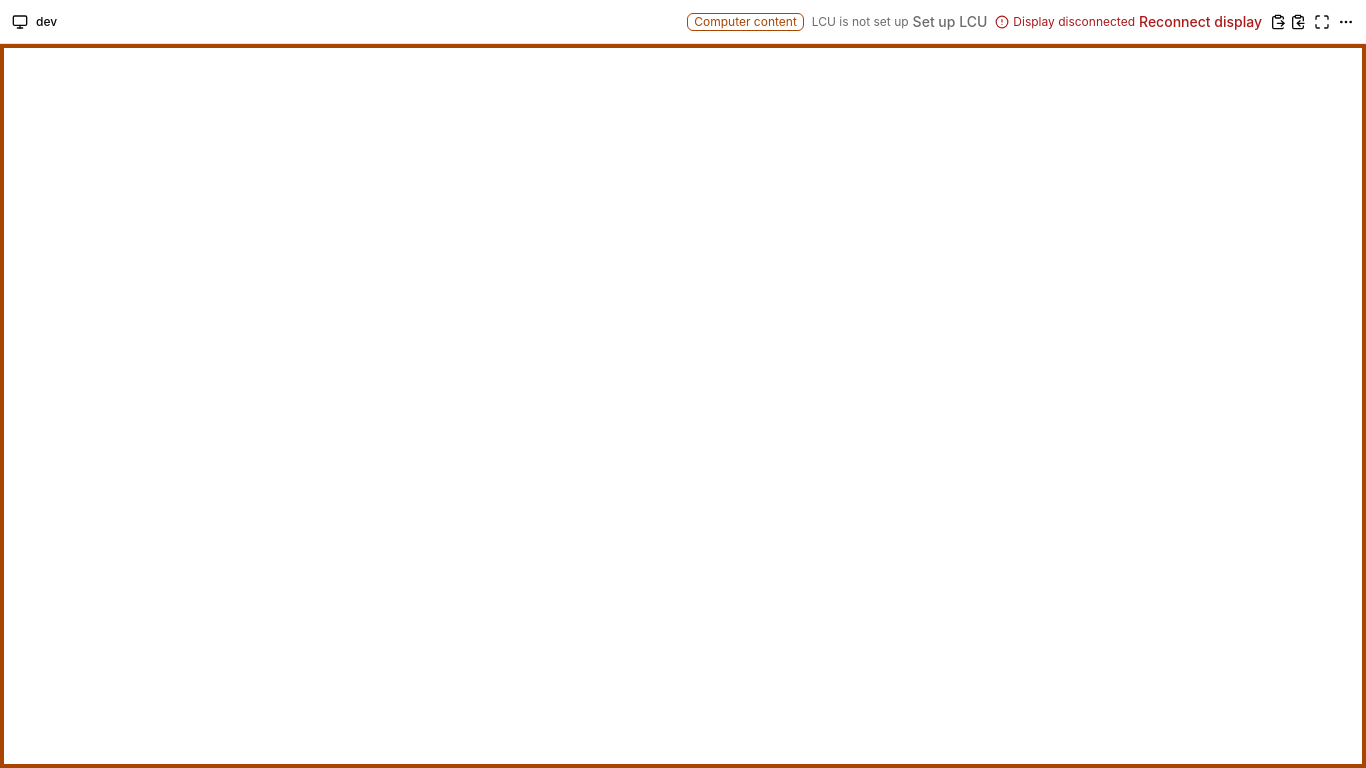
Test: runs explicit LCU setup in a live session even when its display stream failed
Click the button "Set up LCU". click: x=950, y=22
box: [913,12,987,32]
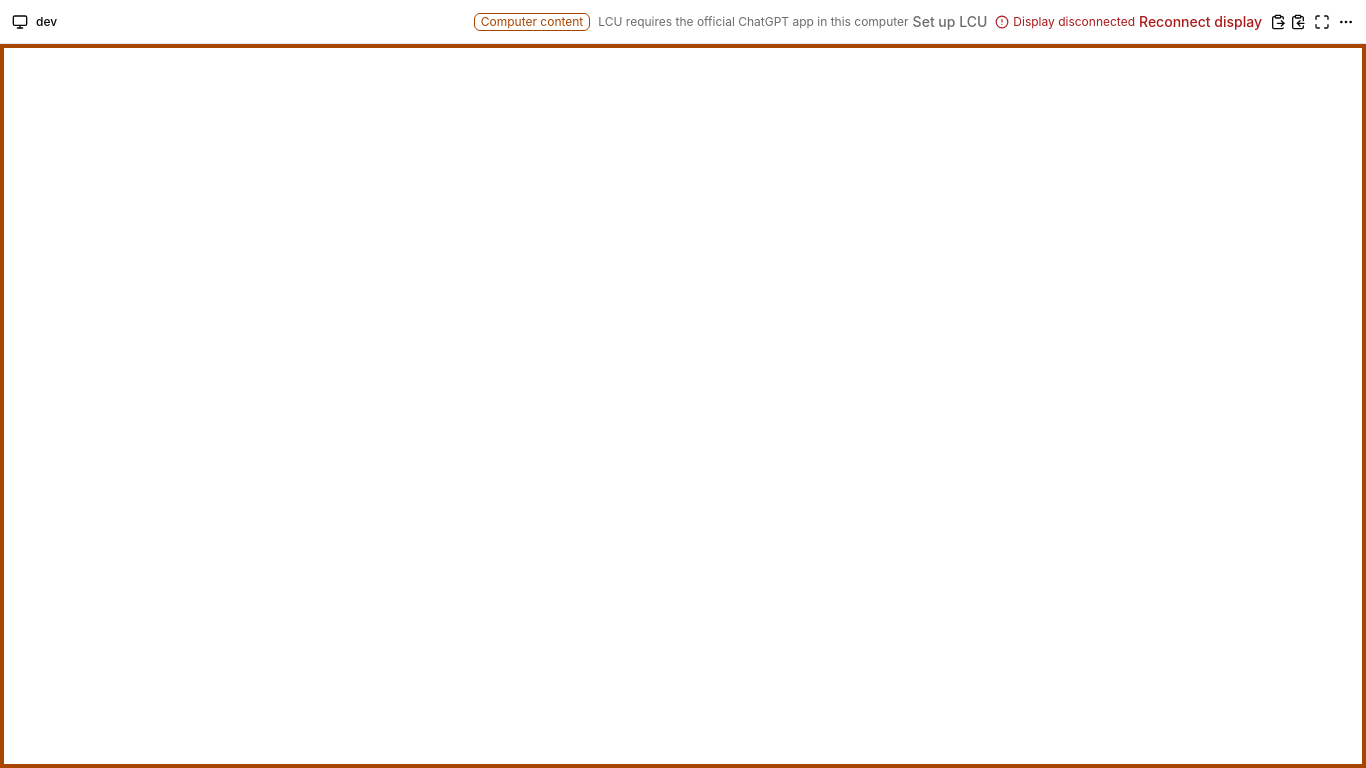
Check: the text "LCU requires the official ChatGPT app in this computer" is shown, box [598,14,909,30]
